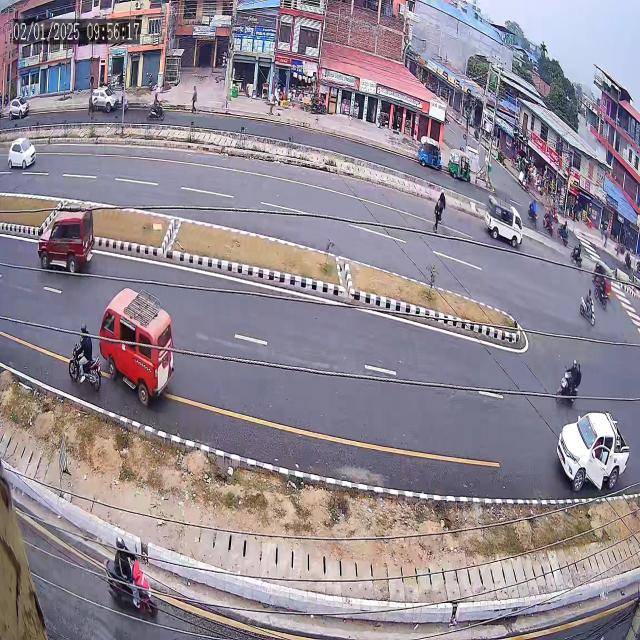auto: (412, 121, 448, 184), (591, 251, 618, 308)
car: (544, 410, 640, 497), (35, 189, 102, 279), (2, 126, 40, 177)
motorcycle: (97, 512, 167, 634), (554, 355, 589, 406), (577, 284, 598, 335), (557, 215, 572, 252), (570, 238, 586, 270), (527, 196, 541, 232)
van: (98, 288, 188, 411), (478, 189, 528, 251)
